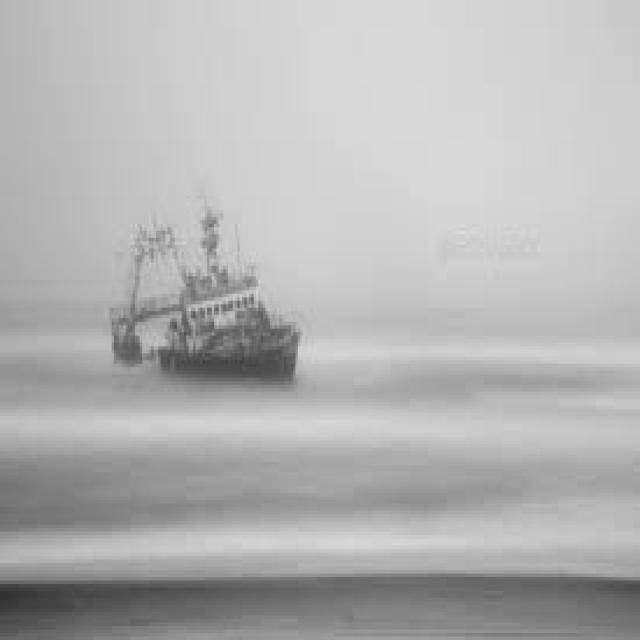fishing boat: (106, 207, 302, 383)
